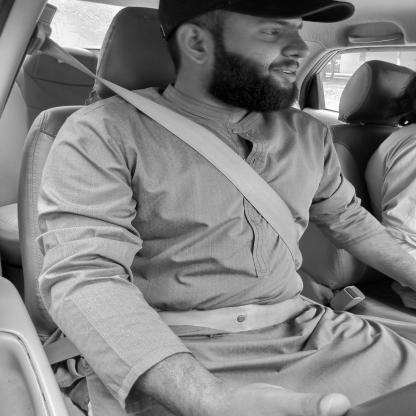seatbelt: (152, 0, 311, 276)
